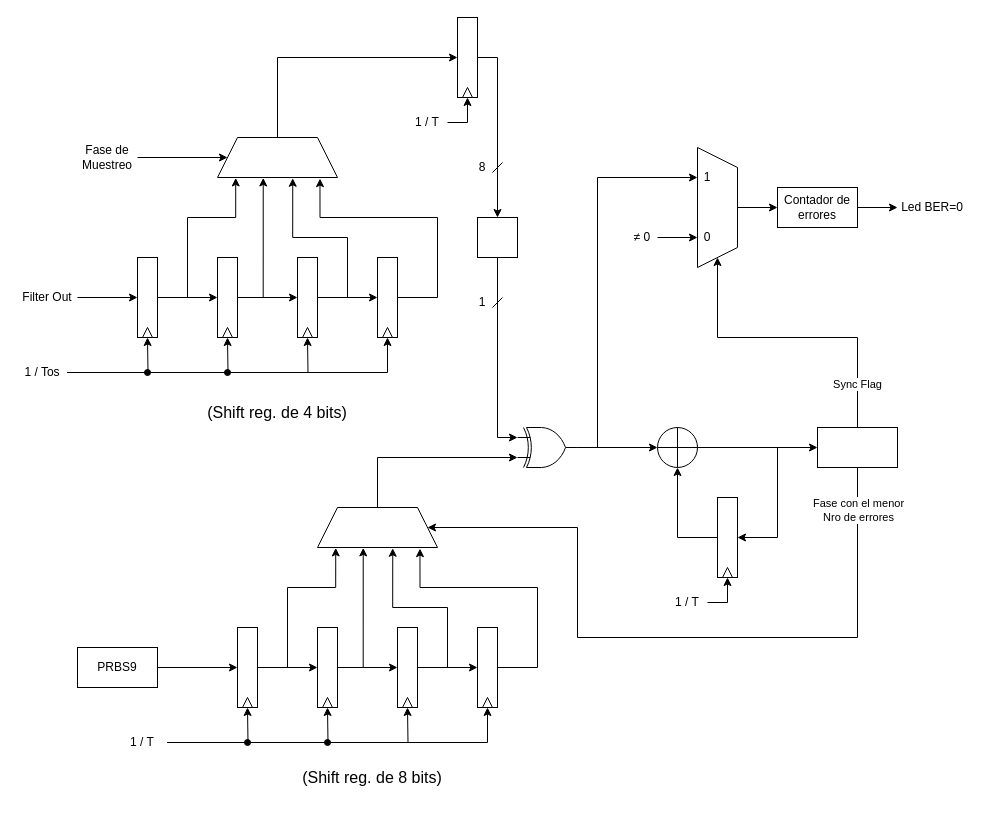
Some shapes in this 984 by 815 pixel diagram are drawn without their labels. The centre of each missing label's shape, as x and y in pixels:
"Arreglo de errores" belongs at (x=857, y=447).
"MSB" belongs at (x=497, y=237).
